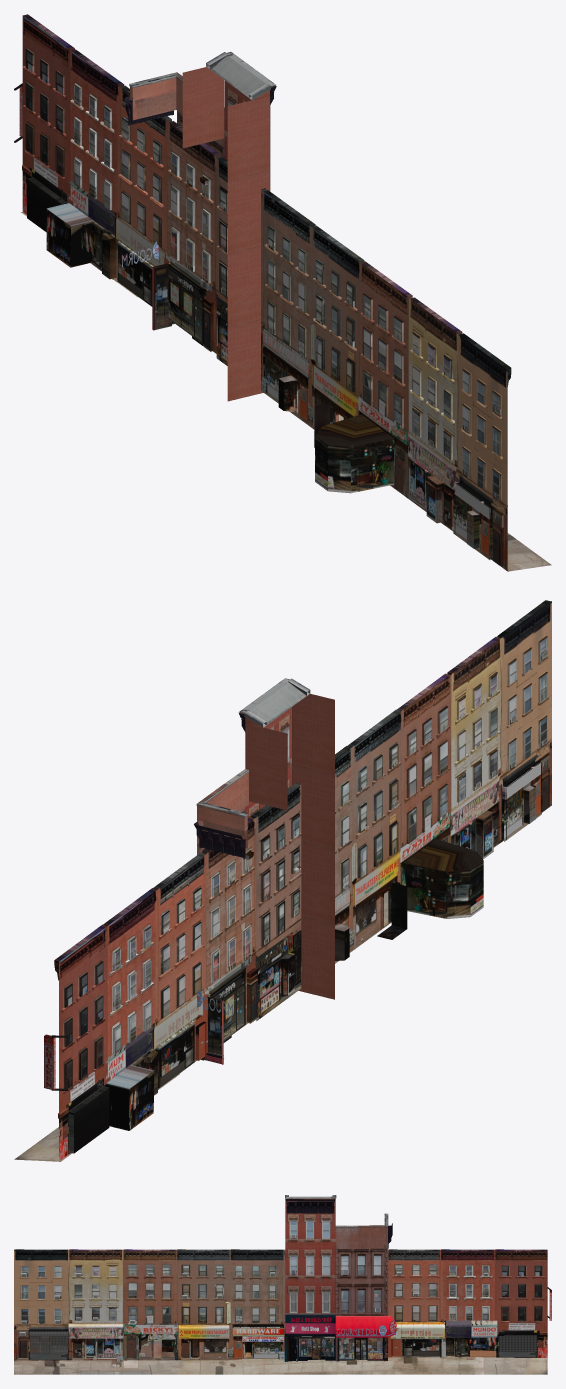
The model's file is Street.glb.
3 renders of one model, top to bottom at view 1: azimuth 30°, elevation 25°; view 2: azimuth 150°, elevation 25°; view 3: azimuth 270°, elevation 25°, orthographic. The views are drawn at different scales.
Visible parts, largest first — view 1: facade14Low.Ready.001_1, facade14Low.Ready.002_2, fc16Low.076_39, facade14Low.Ready_0, facade14Low.Ready.020_373, facade14Low.Ready.003_356, facade14Low.Ready.016_369, facade14Low.Ready.025_376, facade14Low.Ready.239_386; view 2: facade14Low.Ready.001_1, facade14Low.Ready.002_2, fc16Low.076_39, facade14Low.Ready_0, facade14Low.Ready.020_373, facade14Low.Ready.003_356, facade14Low.Ready.016_369, facade14Low.Ready.025_376, facade14Low.Ready.239_386, facade14Low.Ready.018_371; view 3: fc16Low.076_39, facade14Low.Ready.002_2, facade14Low.Ready.001_1, facade14Low.Ready.239_386, facade14Low.Ready_0, facade14Low.Ready.020_373, facade14Low.Ready.003_356, facade14Low.Ready.016_369, facade14Low.Ready.038_167, facade14Low.Ready.035_164, facade14Low.Ready.023_173, facade14Low.Ready.029_158 (+18 smaller).
Boxes of the visible parts, x1,y1,x2,y2 form: facade14Low.Ready.001_1: [22, 15, 216, 289]; facade14Low.Ready.002_2: [358, 261, 507, 513]; fc16Low.076_39: [122, 52, 276, 401]; facade14Low.Ready_0: [216, 157, 358, 403]; facade14Low.Ready.020_373: [22, 148, 216, 353]; facade14Low.Ready.003_356: [315, 406, 507, 571]; facade14Low.Ready.016_369: [216, 300, 358, 429]; facade14Low.Ready.025_376: [453, 482, 490, 559]; facade14Low.Ready.239_386: [21, 212, 551, 571]; facade14Low.Ready.001_1: [59, 817, 256, 1095]; facade14Low.Ready.002_2: [400, 601, 551, 858]; fc16Low.076_39: [194, 678, 334, 1064]; facade14Low.Ready_0: [256, 712, 400, 962]; facade14Low.Ready.020_373: [59, 952, 257, 1161]; facade14Low.Ready.003_356: [400, 746, 551, 918]; facade14Low.Ready.016_369: [256, 857, 400, 1021]; facade14Low.Ready.025_376: [504, 761, 541, 841]; facade14Low.Ready.239_386: [14, 891, 388, 1161]; facade14Low.Ready.018_371: [377, 882, 407, 939]; fc16Low.076_39: [284, 1195, 396, 1361]; facade14Low.Ready.002_2: [14, 1249, 178, 1328]; facade14Low.Ready.001_1: [388, 1249, 547, 1322]; facade14Low.Ready.239_386: [14, 1357, 547, 1374]; facade14Low.Ready_0: [178, 1249, 285, 1328]; facade14Low.Ready.020_373: [388, 1322, 547, 1358]; facade14Low.Ready.003_356: [14, 1328, 178, 1360]; facade14Low.Ready.016_369: [178, 1328, 285, 1360]; facade14Low.Ready.038_167: [446, 1320, 497, 1337]; facade14Low.Ready.035_164: [390, 1322, 445, 1339]; facade14Low.Ready.023_173: [29, 1331, 67, 1353]; facade14Low.Ready.029_158: [68, 1323, 123, 1338].
Bounding box in the file's own units: 7.84 × 22.9 × 66.09.
Materials: 2 (2 with a texture image).
